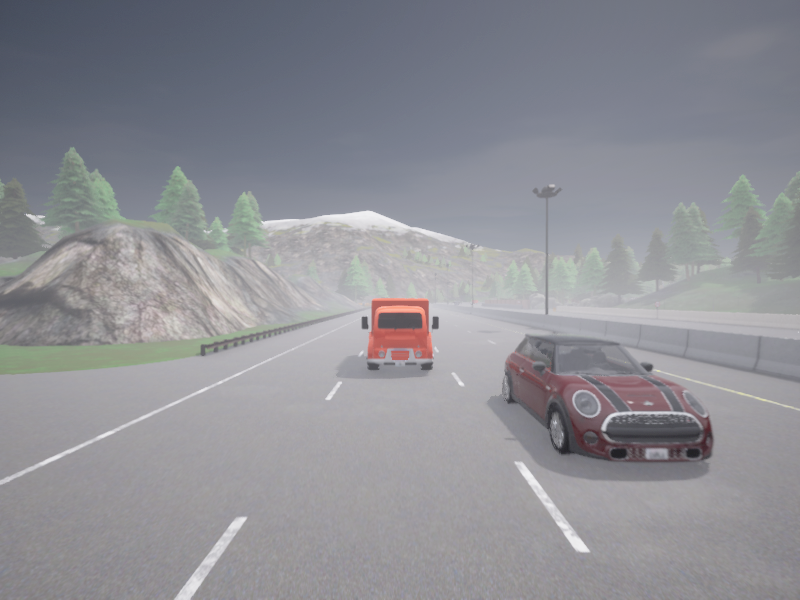vehicle: (502, 327, 713, 462), (362, 298, 438, 370), (454, 301, 461, 304), (473, 300, 478, 303), (455, 302, 459, 304)
